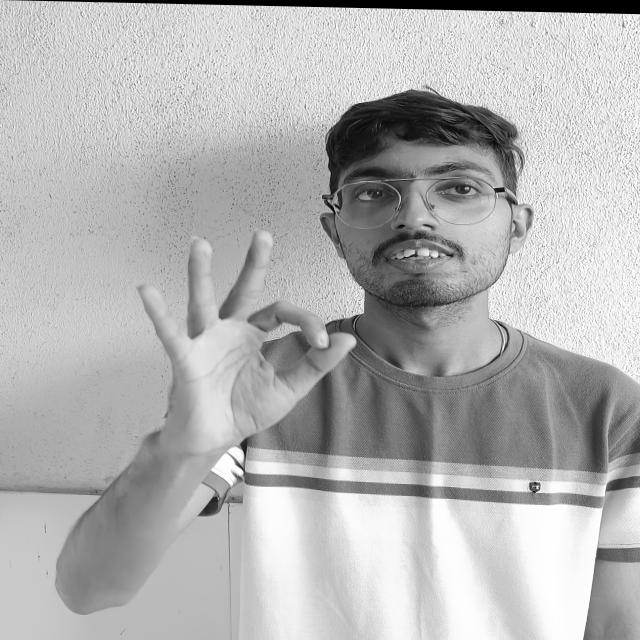Superb: (106, 196, 362, 465)
